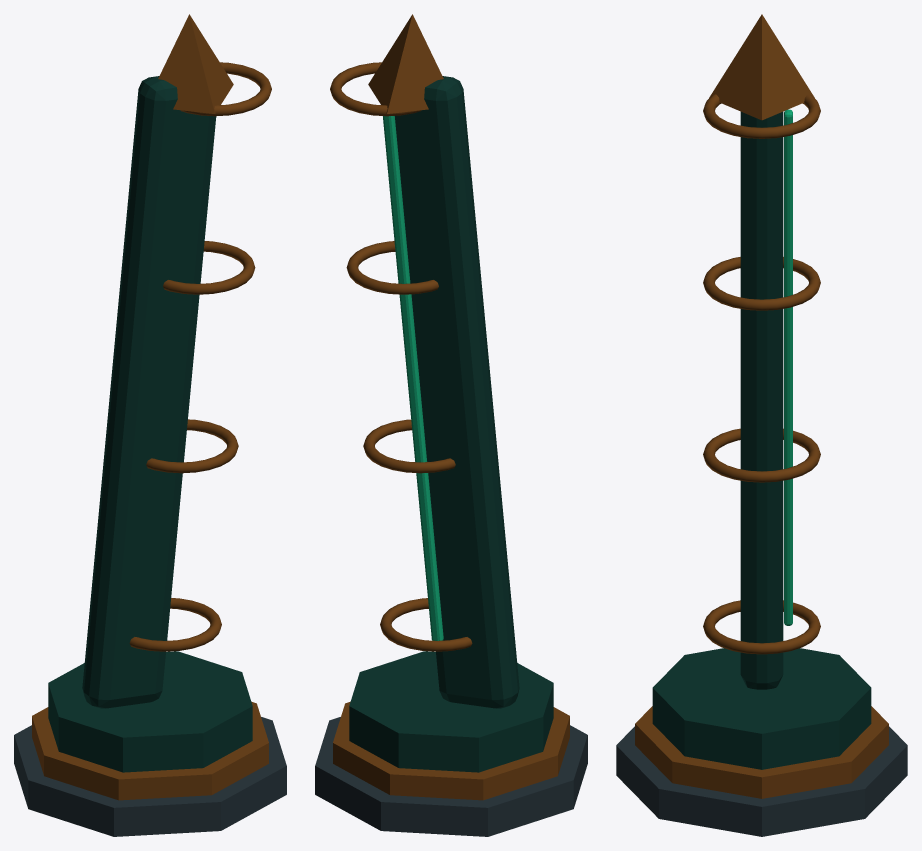
File: SM_JA_SpiritObelisk.fbx
The picture shows the model from 3 angles, left to right: view 1: azimuth 30°, elevation 25°; view 2: azimuth 150°, elevation 25°; view 3: azimuth 270°, elevation 25°; orthographic projection. The views are drawn at different scales.
Parts seen in each view (by area): view 1: SM_JA_SpiritObelisk; view 2: SM_JA_SpiritObelisk; view 3: SM_JA_SpiritObelisk.
Part boxes in pixels (x1=…): SM_JA_SpiritObelisk: x1=14, y1=14, x2=286, y2=836; SM_JA_SpiritObelisk: x1=315, y1=14, x2=587, y2=836; SM_JA_SpiritObelisk: x1=616, y1=14, x2=907, y2=836.
Bounding box in the file's own units: 2.2 × 2.2 × 6.5.
